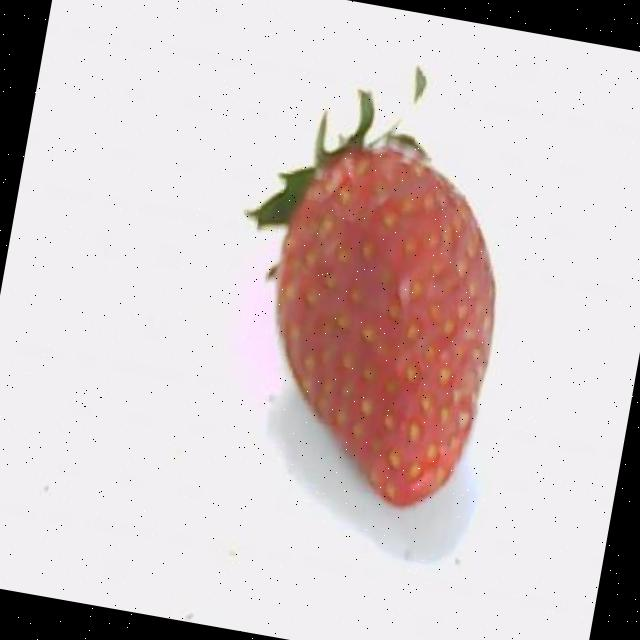strawberry: (246, 90, 495, 506)
